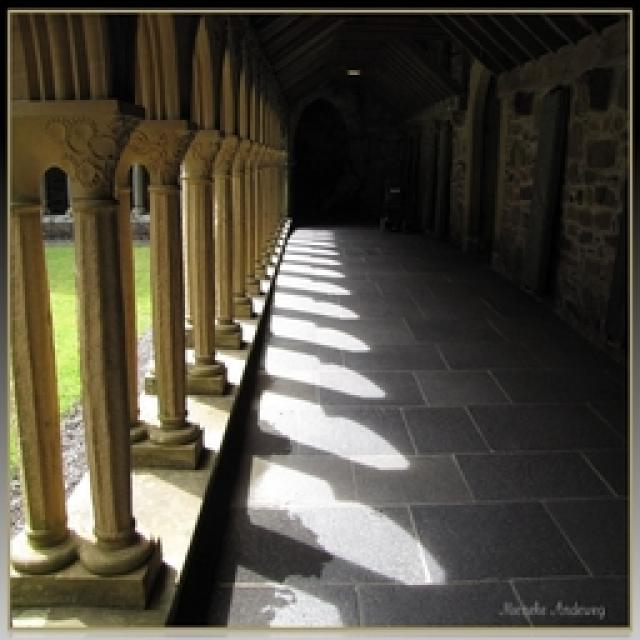Abbey: (4, 26, 314, 639)
